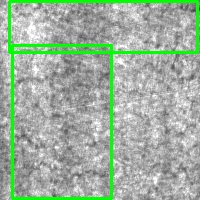crazing: (12, 45, 111, 198), (10, 1, 197, 52)
